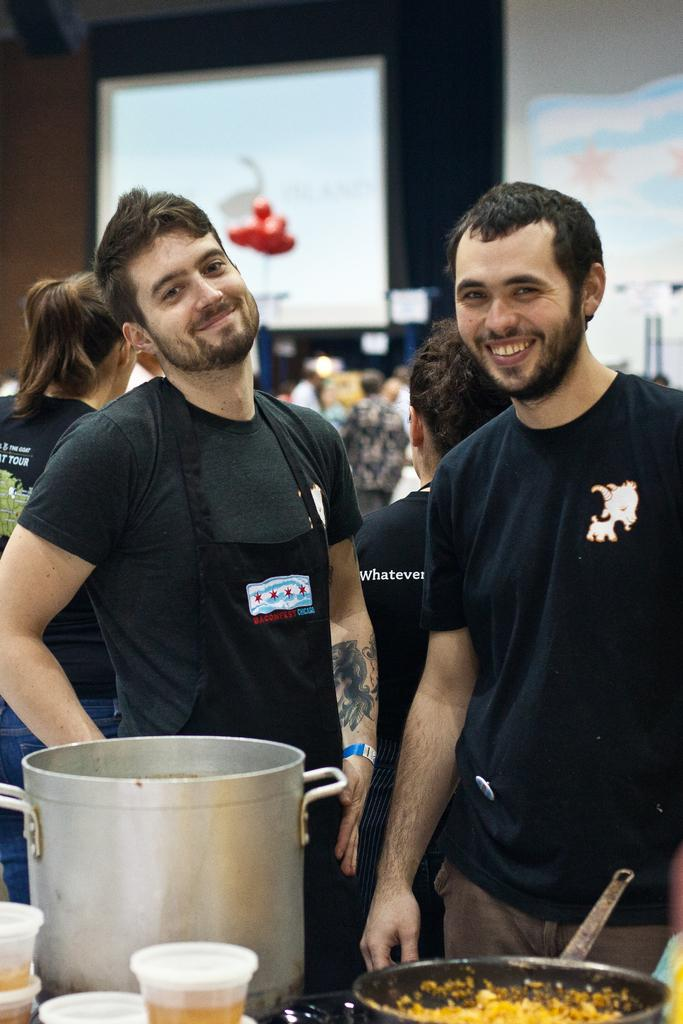Sem Máscara: (451, 233, 576, 400), (138, 231, 256, 366)
